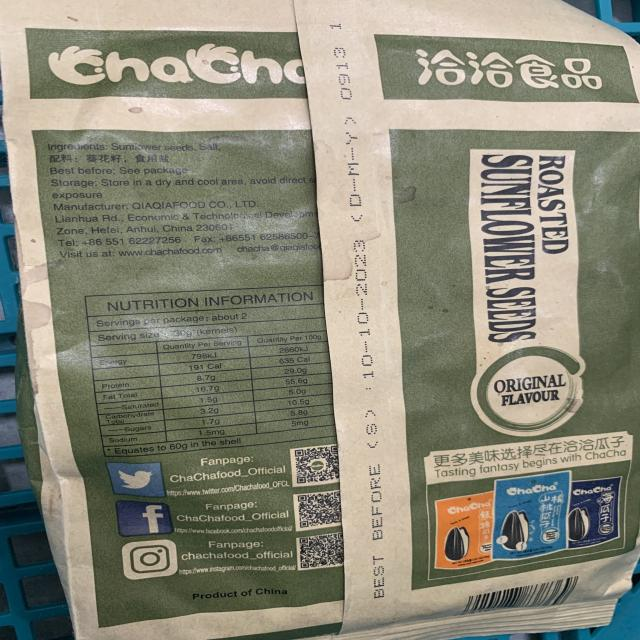object_name: (21, 12, 628, 640)
